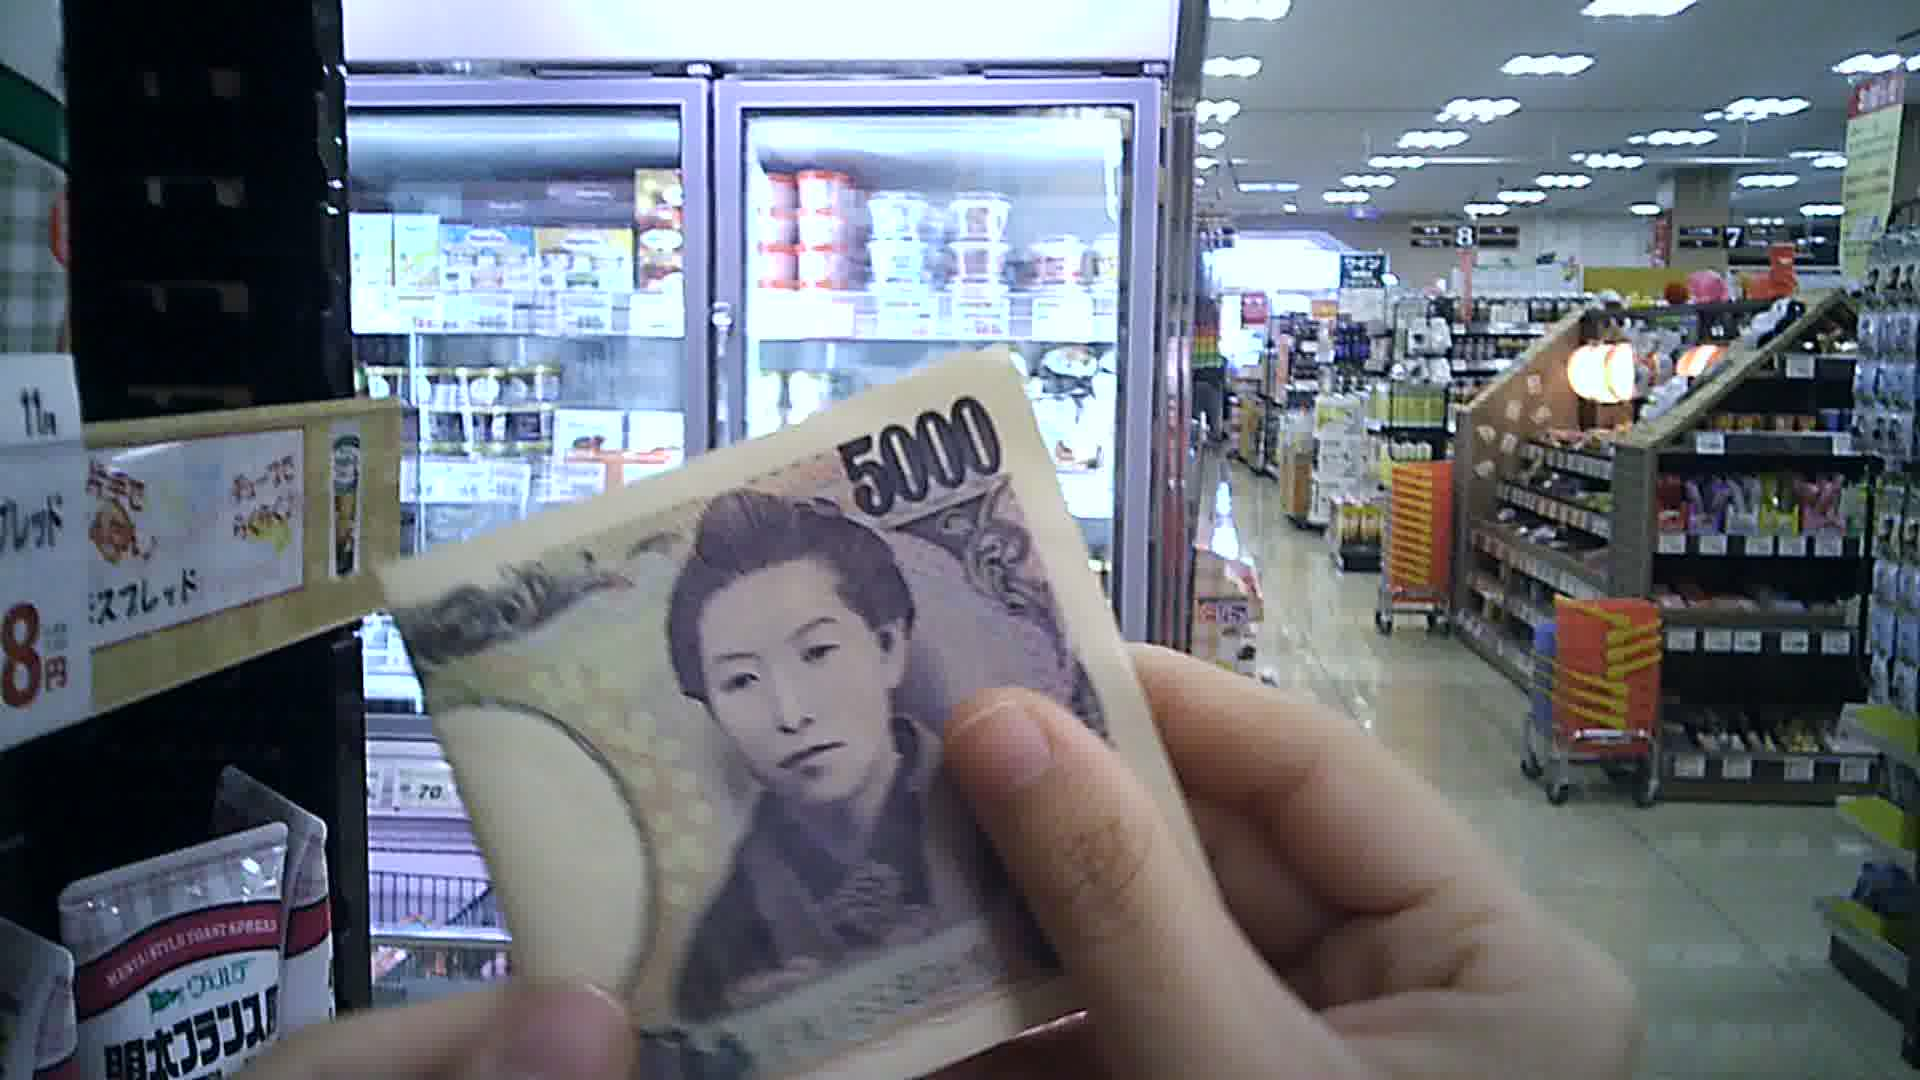5,000 Yen: (369, 360, 1195, 1079)
